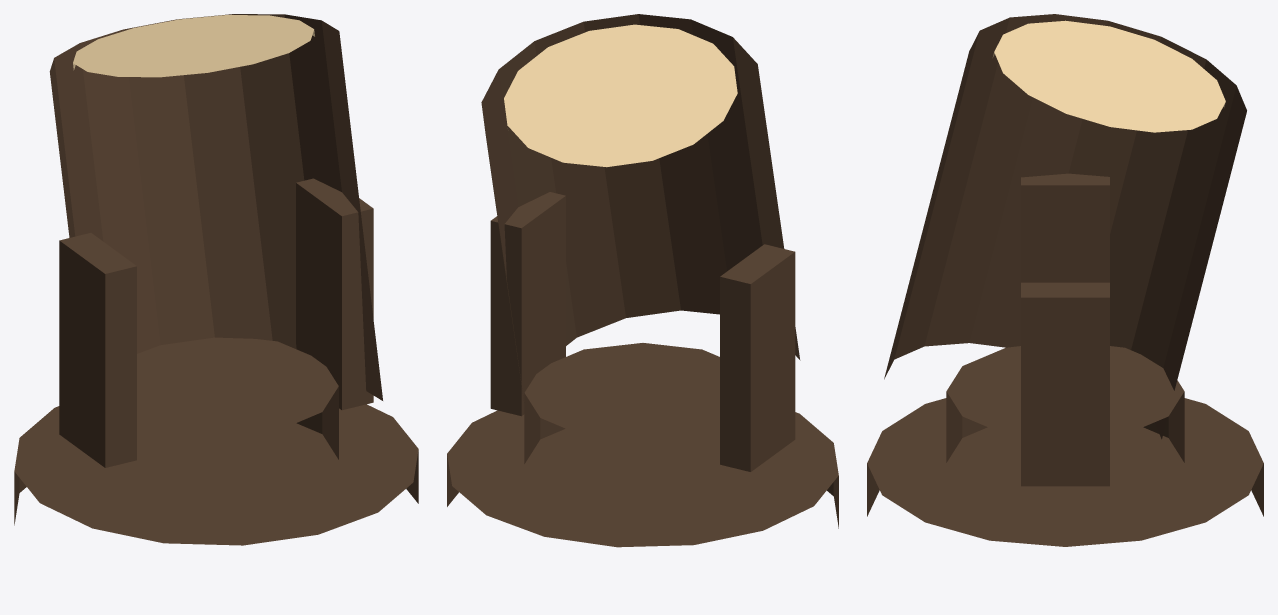
File: facade_uplight.glb
3 views of the same model, side by side, from view 1: azimuth 30°, elevation 25°; view 2: azimuth 150°, elevation 25°; view 3: azimuth 270°, elevation 25° (orthographic). The views are drawn at different scales.
Visible parts, largest first — view 1: FacadeUplight; view 2: FacadeUplight; view 3: FacadeUplight.
Part boxes in pixels (box(x1,y1,x2,y2)): FacadeUplight: box(14, 14, 418, 545); FacadeUplight: box(447, 14, 838, 547); FacadeUplight: box(867, 14, 1263, 546).
Size of the model in its own units: 0.2 by 0.259 by 0.2.
